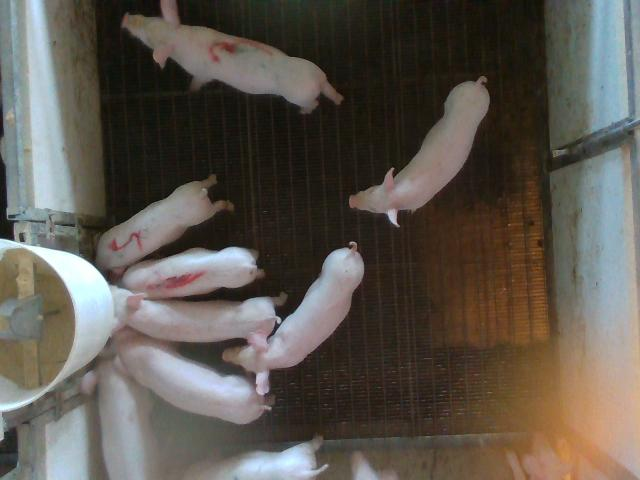pig-1: (121, 248, 264, 299)
pig-3: (121, 0, 342, 113)
pig-5: (96, 175, 233, 272)
